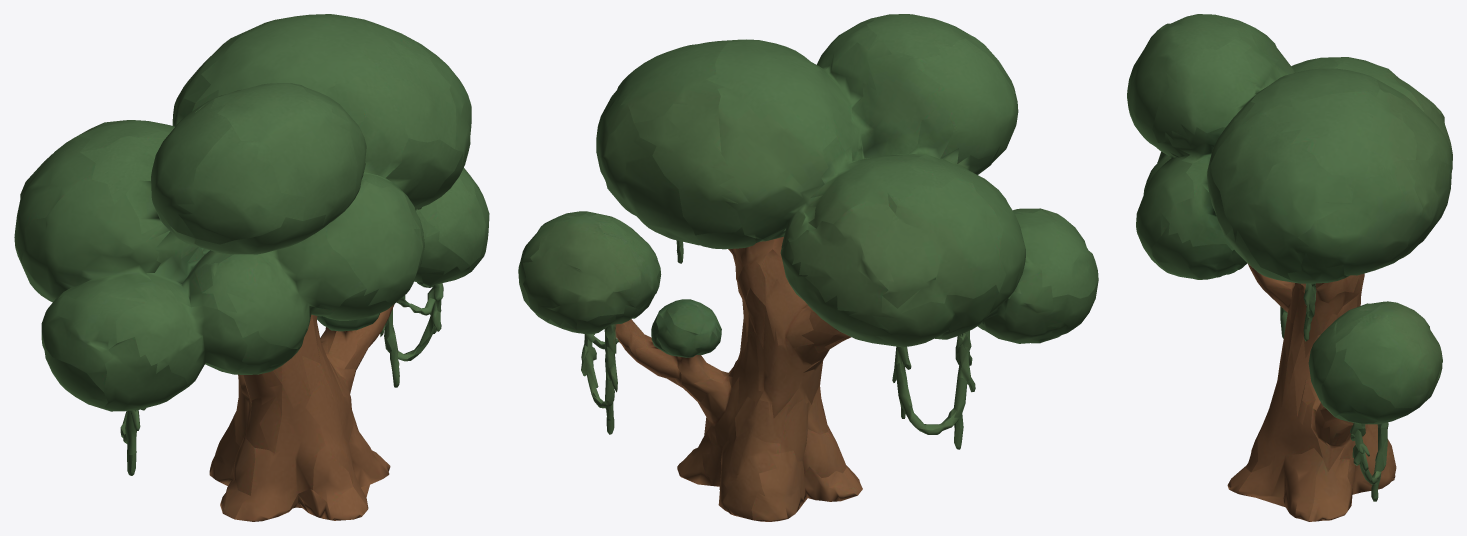
File: forest-canopy-distant.glb
The picture shows the model from 3 angles, left to right: view 1: azimuth 30°, elevation 25°; view 2: azimuth 150°, elevation 25°; view 3: azimuth 270°, elevation 25°; orthographic projection. The views are drawn at different scales.
Size of the model in its own units: 1.9 by 1.64 by 1.16.
1 material, 1 textured.
